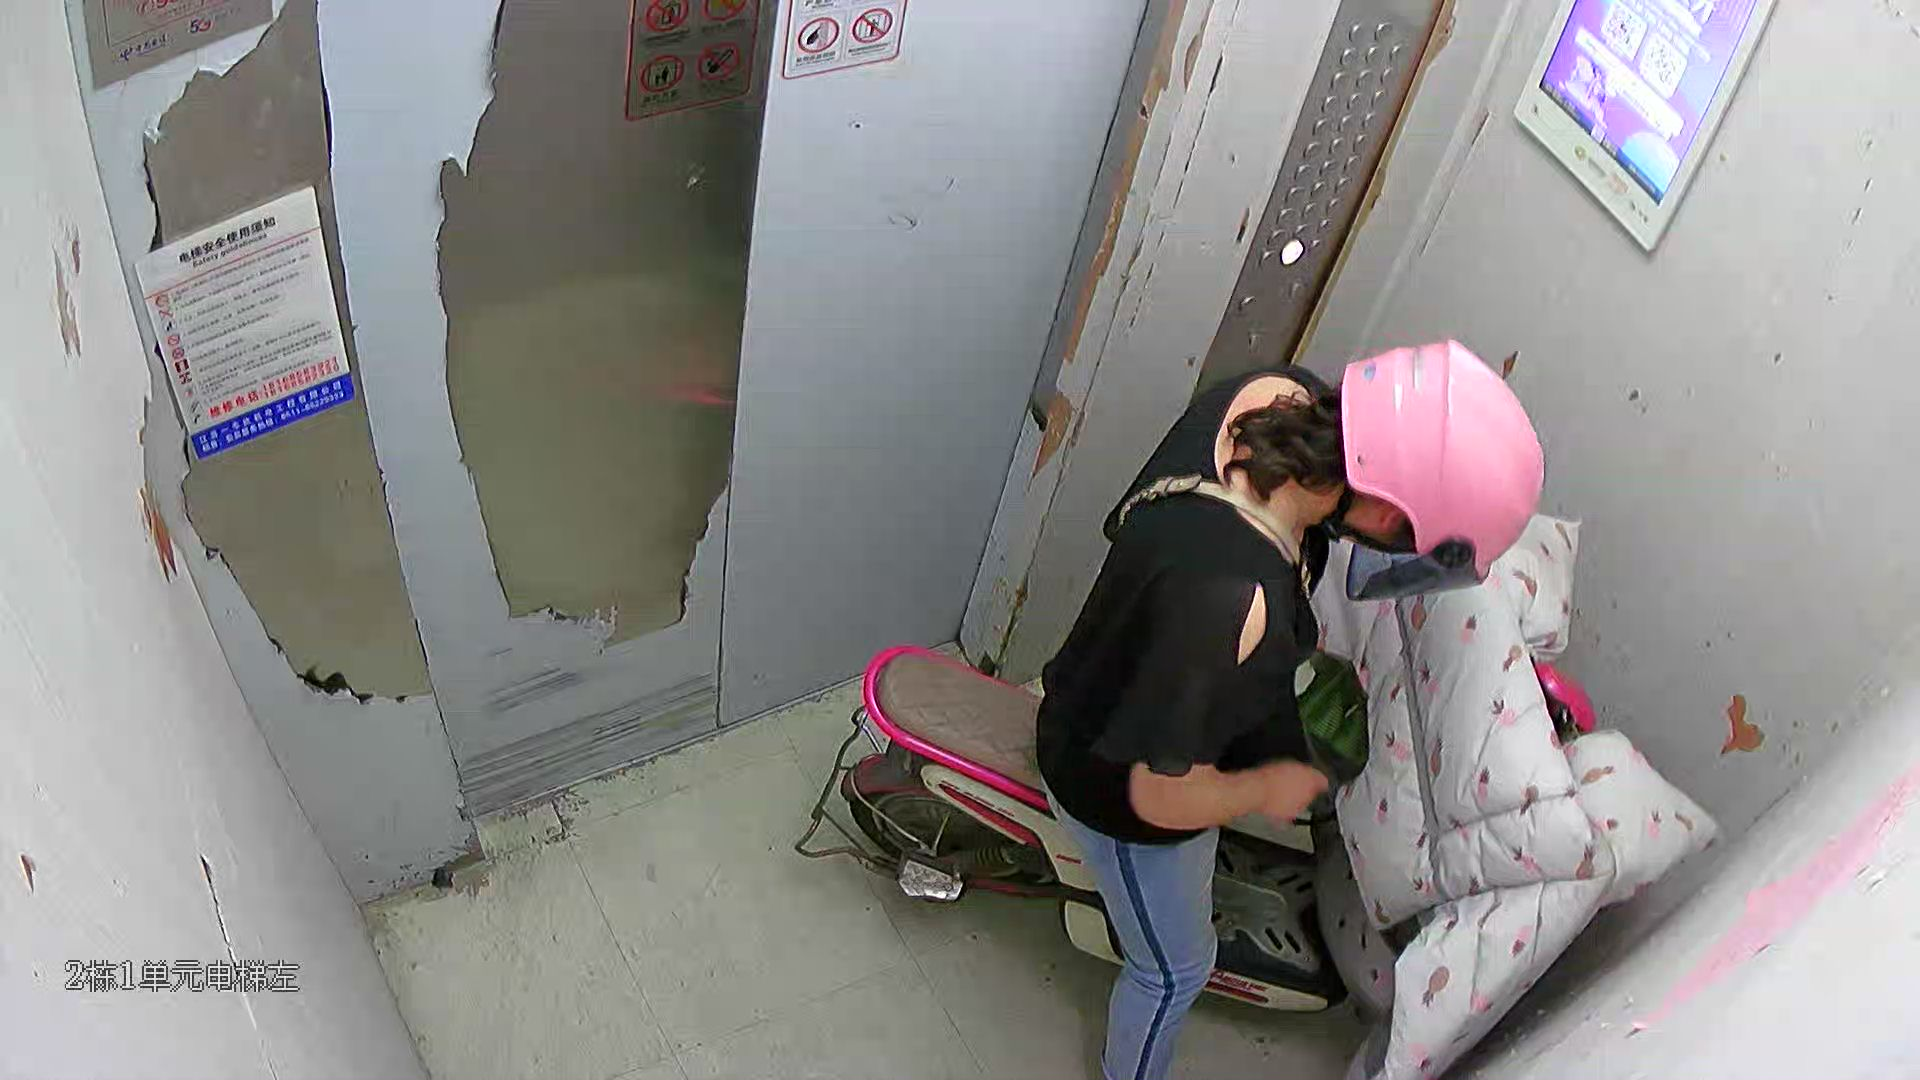Electric-bicycle: (794, 521, 1716, 1080)
